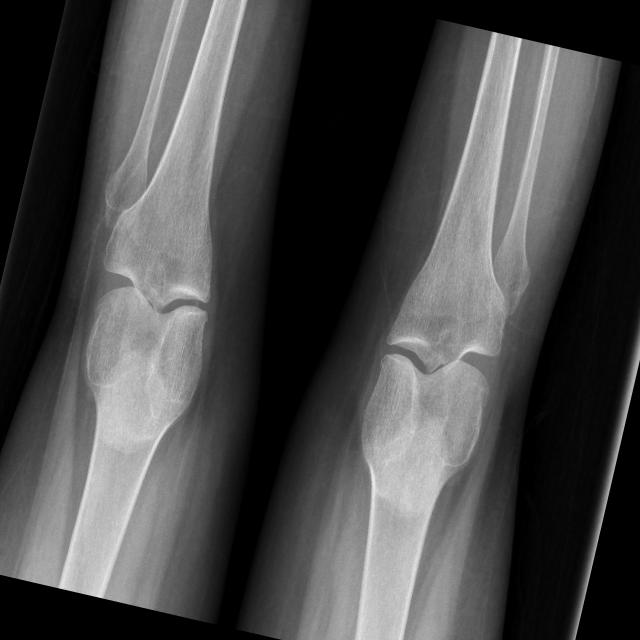Knee: (357, 271, 515, 469), (75, 208, 235, 400)
